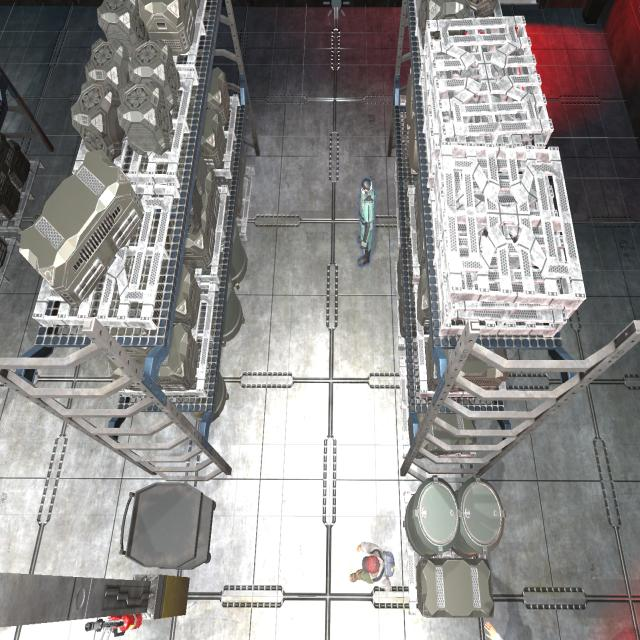thiefs: (346, 537, 401, 600)
